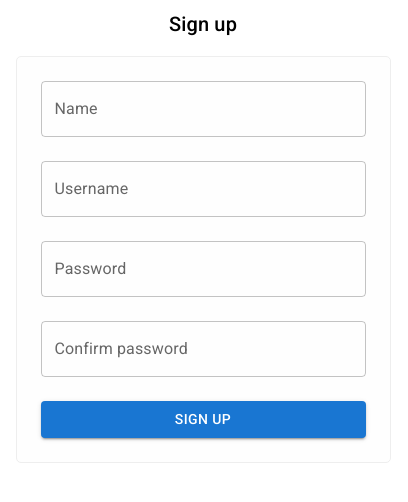
Sign up form component › should show password must match error on field when submitting with mismatching passwords
Type "John Doe" into the field labelled "Name" at {"x": 203, "y": 109}, box x1=40 y1=81 x2=366 y2=137
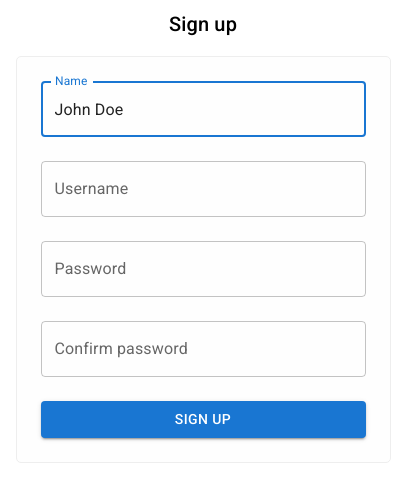
Type "johndoe" into the field labelled "Username" at {"x": 203, "y": 189}, box x1=40 y1=161 x2=366 y2=217
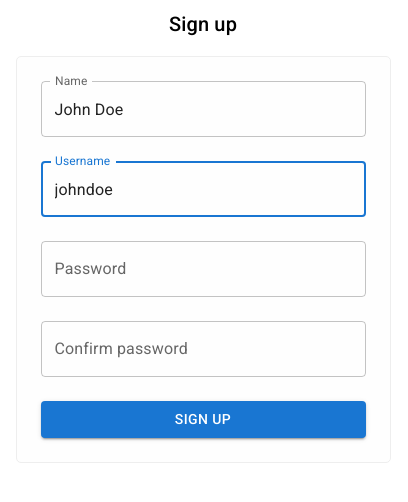
Type "123456" into the password field labelled "Password" at {"x": 203, "y": 269}, box x1=40 y1=241 x2=366 y2=297
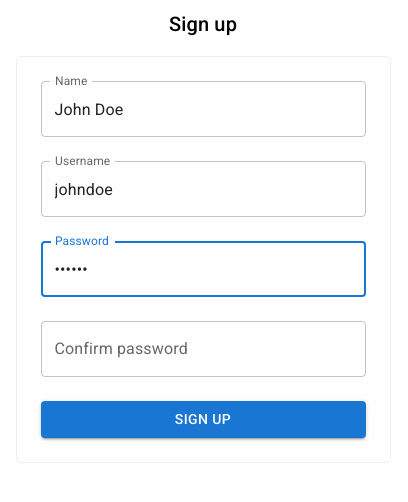
Type "654321" into the password field labelled "Confirm password" at {"x": 203, "y": 349}, box x1=40 y1=321 x2=366 y2=377
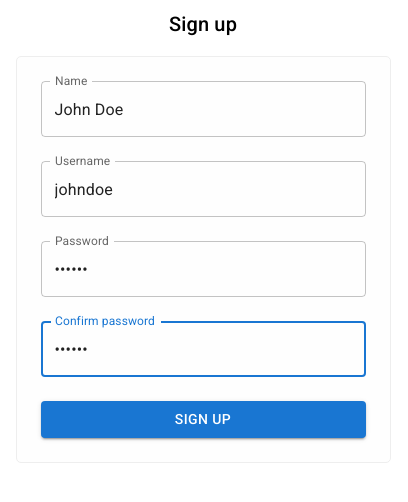
Click the button "Sign up" at {"x": 203, "y": 419}, box x1=40 y1=401 x2=366 y2=438
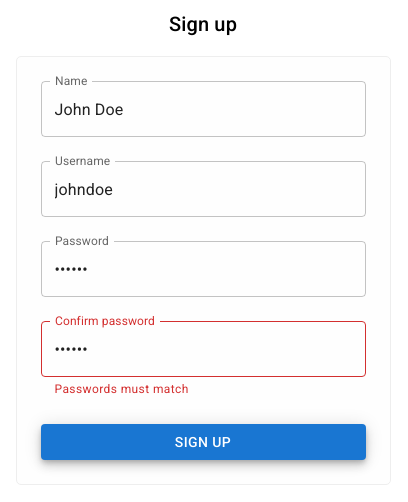
Result: the text "Passwords must match" is shown at x1=54 y1=382 x2=189 y2=396
